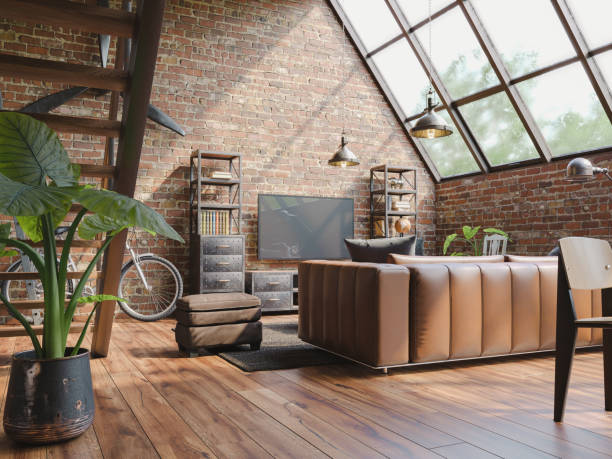TV: (255, 191, 357, 263)
TV stand: (249, 269, 296, 314)
chair: (171, 291, 263, 356)
large plant: (0, 107, 186, 444)
sofa: (295, 235, 606, 377)
